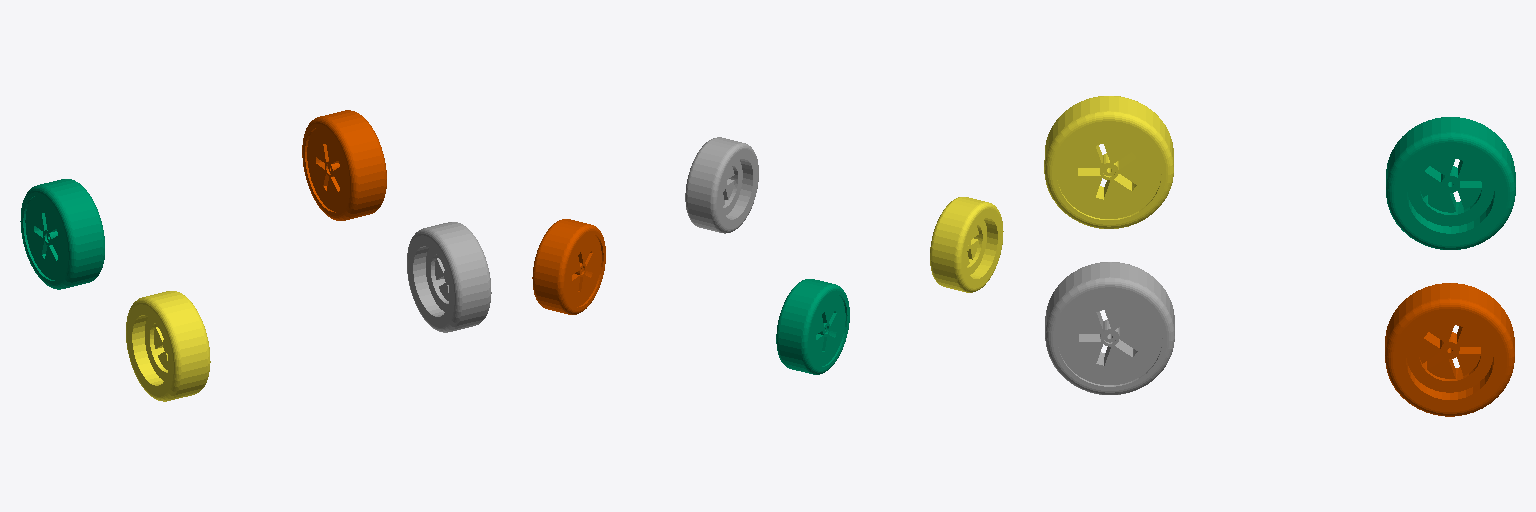
robot.urdf — speedi:
<robot name="speedi">

    <!--Car Links-->

    <link name="chassis">
        <inertial>
            <origin xyz="0 0 0"/>
            <mass value="5.0"/>
            <inertia ixx="0.10595165" ixy="-0.002487144" ixz="0.011981253" iyy="0.126271962" iyz="0.011832006" izz="0.033185337"/>
        </inertial>
        <visual>
            <origin rpy="0 0 0" xyz="0 0 0"/>
            <geometry>
                <mesh filename="package://rr_description/meshes/car.dae"/>
            </geometry>
        </visual>
        <collision>
            <geometry>
                <mesh filename="package://rr_description/meshes/car.dae"/>
            </geometry>
        </collision>
    </link>
    <gazebo reference="chassis">
        <material>Gazebo/Grey</material>
    </gazebo>


    <link name="back_axle">
        <inertial> <!--Null inertia-->
            <mass value="0.001"/>
            <inertia ixx="0.001" ixy="0" ixz="0" iyy="0.001" iyz="0" izz="0.001"/>
        </inertial>
    </link>

    <link name="wheel_back_left">
        <inertial>
            <origin rpy="0 0 0" xyz="0 0 0" />
            <mass value="0.1" />
            <inertia  ixx="0.000405599" ixy="0.0"  ixz="0.0"  iyy="0.000405599"  iyz="0.0"  izz="0.000518265" />
        </inertial>
        <visual>
            <origin rpy="0 0 0" xyz="0 0 0"/>
            <geometry>
                <mesh filename="package://rr_description/meshes/wheel.dae"/>
            </geometry>
        </visual>
        <collision>
            <geometry>
                <mesh filename="package://rr_description/meshes/wheel.dae"/>
            </geometry>
        </collision>
    </link>
    <gazebo reference="wheel_back_left">
        <mu1>0.7</mu1>
        <mu2>0.75</mu2>
        <material>Gazebo/Grey</material>
    </gazebo>


    <link name="wheel_back_right">
        <inertial>
            <origin rpy="0 0 0" xyz="0 0 0" />
            <mass value="0.1" />
            <inertia  ixx="0.000405599" ixy="0.0"  ixz="0.0"  iyy="0.000405599"  iyz="0.0"  izz="0.000518265" />
        </inertial>
        <visual>
            <origin rpy="0 0 3.14" xyz="0 0 0"/>
            <geometry>
                <mesh filename="package://rr_description/meshes/wheel.dae"/>
            </geometry>
        </visual>
        <collision>
            <geometry>
                <mesh filename="package://rr_description/meshes/wheel.dae"/>
            </geometry>
        </collision>
    </link>
    <gazebo reference="wheel_back_right">
        <mu1>0.7</mu1>
        <mu2>0.75</mu2>
        <material>Gazebo/Grey</material>
    </gazebo>


    <link name="steering_front_left">
        <inertial> <!--Null inertia-->
            <mass value="0.001"/>
            <inertia ixx="0.001" ixy="0" ixz="0" iyy="0.001" iyz="0" izz="0.001"/>
        </inertial>
    </link>

    <link name="wheel_front_left">
        <inertial>
            <origin xyz="0 0 0" />
            <mass value="0.1" />
            <inertia  ixx="0.000405599" ixy="0.0"  ixz="0.0"  iyy="0.000405599"  iyz="0.0"  izz="0.000518265" />
        </inertial>
        <visual>
            <origin rpy="0 0 0" xyz="0 0 0"/>
            <geometry>
                <mesh filename="package://rr_description/meshes/wheel.dae"/>
            </geometry>
        </visual>
        <collision>
            <geometry>
                <mesh filename="package://rr_description/meshes/wheel.dae"/>
            </geometry>
        </collision>
    </link>
    <gazebo reference="wheel_front_left">
        <mu1>0.7</mu1>
        <mu2>0.75</mu2>
        <material>Gazebo/Grey</material>
    </gazebo>

    <link name="steering_front_right">
        <inertial> <!--Null inertia-->
            <mass value="0.001"/>
            <inertia ixx="0.001" ixy="0" ixz="0" iyy="0.001" iyz="0" izz="0.001"/>
        </inertial>
    </link>

    <link name="wheel_front_right">
        <inertial>
            <origin xyz="0 0 0" />
            <mass value="0.1" />
            <inertia  ixx="0.000405599" ixy="0.0"  ixz="0.0"  iyy="0.000405599"  iyz="0.0"  izz="0.000518265" />
        </inertial>
        <visual>
            <origin rpy="0 0 3.14" xyz="0 0 0"/>
            <geometry>
                <mesh filename="package://rr_description/meshes/wheel.dae"/>
            </geometry>
        </visual>
        <collision>
            <geometry>
                <mesh filename="package://rr_description/meshes/wheel.dae"/>
            </geometry>
        </collision>
    </link>
    <gazebo reference="wheel_front_right">
        <mu1>0.7</mu1>
        <mu2>0.75</mu2>
        <material>Gazebo/Grey</material>
    </gazebo>



    <!--Sensor Links-->

    <link name="laser"/>
    <gazebo reference="laser">
        <sensor type="ray" name="lidar">
            <visualize>false</visualize>
            <update_rate>15</update_rate>
            <ray>
                <scan>
                    <horizontal>
                        <samples>270</samples>
                        <resolution>1</resolution>
                        <min_angle>-2.35619</min_angle>
                        <max_angle>2.35619</max_angle>
                    </horizontal>
                </scan>
                <range>
                    <min>0.05</min>
                    <max>8.00</max>
                    <resolution>0.02</resolution>
                </range>
            </ray>
            <plugin name="lidar_plugin" filename="libgazebo_ros_laser.so">
                <robotNamespace>/</robotNamespace>
                <topicName>/scan</topicName>
                <frameName>/laser</frameName>
            </plugin>
        </sensor>
    </gazebo>


    <link name="imu"/>
    <gazebo>
        <plugin filename="libhector_gazebo_ros_imu.so" name="imu_sensor">
            <robotNamespace>/</robotNamespace>
            <serviceName>/imu/calibrate</serviceName>
            <updateRate>200.0</updateRate>
            <bodyName>imu</bodyName>
            <frameId>imu</frameId>
            <topicName>imu</topicName>
            <rpyOffset>0 0 0</rpyOffset>
            <xyzOffset>0 0 0</xyzOffset>
            <gaussianNoise>0.00000001</gaussianNoise>
            <accelDrift>0.00000001 0.00000001 0.00000001</accelDrift>
            <accelDriftFrequency>0.00000001 0.00000001 0.00000001</accelDriftFrequency>
            <accelGaussianNoise>0.00000001 0.00000001 0.00000001</accelGaussianNoise>
            <rateDrift>0.0 0.0 0.0</rateDrift>
            <rateDriftFrequency>0.0 0.0 0.0</rateDriftFrequency>
            <rateGaussianNoise>0.0 0.0 0.0</rateGaussianNoise>
            <headingDrift>0.0 0.0 0.0</headingDrift>
            <headingDriftFrequency>0.0 0.0 0.0</headingDriftFrequency>
            <headingGaussianNoise>0.0 0.0 0.0</headingGaussianNoise>
        </plugin>
    </gazebo>


    <link name="camera_base">
        <inertial> <!--Null inertia-->
            <mass value="0.001"/>
            <inertia ixx="0.001" ixy="0" ixz="0" iyy="0.001" iyz="0" izz="0.001"/>
        </inertial>
    </link>


    <link name="camera">
        <inertial> <!--Null inertia-->
            <mass value="0.001"/>
            <inertia ixx="0.001" ixy="0" ixz="0" iyy="0.001" iyz="0" izz="0.001"/>
        </inertial>
    </link>
    <gazebo reference="camera">
        <sensor name="camera_sensor" type="camera">
            <camera>
                <horizontal_fov>2.0944<!-- 120 deg in rad --></horizontal_fov>
                <image>
                    <width>640</width>
                    <height>480</height>
                    <format>R8G8B8</format>
                </image>
                <clip>
                    <near>0.1</near>
                    <far>100</far>
                </clip>
            </camera>
            <always_on>true</always_on>
            <update_rate>30</update_rate>
            <visualize>false</visualize>
            <plugin name="camera_controller" filename="libgazebo_ros_camera.so">
                <robotNamespace>/</robotNamespace>
                <alwaysOn>true</alwaysOn>
                <updateRate>30.0</updateRate>
                <cameraName>camera</cameraName>
                <imageTopicName>image_raw</imageTopicName>
                <cameraInfoTopicName>camera_info</cameraInfoTopicName>
                <frameName>camera_optical</frameName>
                <hackBaseline>0.07</hackBaseline>
            </plugin>
        </sensor>
    </gazebo>

    <link name="camera_optical"/>


    <link name="base_footprint">
        <inertial> <!--Null inertia-->
            <mass value="0.001"/>
            <inertia ixx="0.001" ixy="0" ixz="0" iyy="0.001" iyz="0" izz="0.001"/>
        </inertial>
    </link>



    <!--Joints-->

    <joint name="base_footprint_to_chassis" type="fixed">
        <parent link="base_footprint"/>
        <child link="chassis"/>
        <origin xyz="0 0 0.036" rpy="0 0 0"/>
    </joint>

    <joint name="chassis_to_back_axle" type="fixed">
        <parent link="chassis"/>
        <child link="back_axle"/>
        <origin xyz="0 0 0" rpy="0 0 0"/>
    </joint>

    <joint name="axle_to_left_wheel" type="continuous">
        <parent link="back_axle"/>
        <child link="wheel_back_left"/>
        <origin xyz="0 0.14439 0" rpy="0 0 0"/>
        <axis xyz="0 1 0"/>
    </joint>
    <joint name="axle_to_right_wheel" type="continuous">
        <parent link="back_axle"/>
        <child link="wheel_back_right"/>
        <origin xyz="0 -0.14439 0" rpy="0 0 0"/>
        <axis xyz="0 1 0"/>
    </joint>

    <joint name="chassis_to_left_steering" type="revolute">
        <parent link="chassis"/>
        <child link="steering_front_left"/>
        <origin xyz="0.33246 0.14366 0" rpy="0 0 0"/>
        <axis xyz="0 0 1"/>
        <limit lower="-0.366519" upper="0.366519" effort="100000.0" velocity="1000000.0"/>
    </joint>
    <joint name="left_steering_to_wheel" type="continuous">
        <parent link="steering_front_left"/>
        <child link="wheel_front_left"/>
        <origin xyz="0 0 0" rpy="0 0 0"/>
        <axis xyz="0 1 0"/>
    </joint>

    <joint name="chassis_to_right_steering" type="revolute">
        <parent link="chassis"/>
        <child link="steering_front_right"/>
        <origin xyz="0.33246 -0.14366 0" rpy="0 0 0"/>
        <axis xyz="0 0 1"/>
        <limit lower="-0.366519" upper="0.366519" effort="1000.0" velocity="1000.0"/>
    </joint>
    <joint name="right_steering_to_wheel" type="continuous">
        <parent link="steering_front_right"/>
        <child link="wheel_front_right"/>
        <origin xyz="0 0 0" rpy="0 0 0"/>
        <axis xyz="0 1 0"/>
    </joint>

    <joint name="cam_chassis_height" type="prismatic">
        <parent link="chassis"/>
        <child link="camera_base"/>
        <origin xyz="0 0 0" rpy="0 0 0"/>
        <axis xyz="0 0 1"/>
        <limit lower="0.274" upper="0.374" effort="1000.0" velocity="1000.0"/>
    </joint>

    <joint name="camera_tilt" type="revolute">
        <parent link="camera_base"/>
        <child link="camera"/>
        <origin xyz="0 0 0" rpy="0 0 0"/>
        <axis xyz="0 1 0"/>
        <limit lower="0" upper="3.14" effort="1000.0" velocity="1000.0"/>
    </joint>

    <joint name="camera_optical_joint" type="fixed">
        <parent link="camera"/>
        <child link="camera_optical"/>
        <origin xyz="0 0 0" rpy="-1.5708 0 -1.5708"/>
    </joint>

    <joint name="lidar_joint" type="fixed">
        <parent link="chassis"/>
        <child link="laser"/>
        <origin xyz="0.255 0 0.110" rpy="0 0 0"/>
    </joint>

    <joint name="imu" type="fixed">
        <parent link="chassis"/>
        <child link="imu"/>
        <origin xyz="0 0 0.1778" rpy="0 0 0"/>
    </joint>

    <!--Actuators-->

    <gazebo>
        <plugin name="gazebo_ros_control" filename="libgazebo_ros_control.so">
            <robotNamespace>/</robotNamespace>
        </plugin>
    </gazebo>

    <transmission name="trans_back_left">
        <type>transmission_interface/SimpleTransmission</type>
        <joint name="axle_to_left_wheel">
            <hardwareInterface>EffortJointInterface</hardwareInterface>
        </joint>
        <actuator name="motor_left">
            <hardwareInterface>EffortJointInterface</hardwareInterface>
            <mechanicalReduction>1</mechanicalReduction>
        </actuator>
    </transmission>

    <transmission name="trans_back_right">
        <type>transmission_interface/SimpleTransmission</type>
        <joint name="axle_to_right_wheel">
            <hardwareInterface>EffortJointInterface</hardwareInterface>
        </joint>
        <actuator name="motor_right">
            <hardwareInterface>EffortJointInterface</hardwareInterface>
            <mechanicalReduction>1</mechanicalReduction>
        </actuator>
    </transmission>

    <transmission name="left_steering_trans">
        <type>transmission_interface/SimpleTransmission</type>
        <joint name="chassis_to_left_steering">
            <hardwareInterface>EffortJointInterface</hardwareInterface>
        </joint>
        <actuator name="left_steer_motor">
            <hardwareInterface>EffortJointInterface</hardwareInterface>
            <mechanicalReduction>1</mechanicalReduction>
        </actuator>
    </transmission>

    <transmission name="right_steering_trans">
        <type>transmission_interface/SimpleTransmission</type>
        <joint name="chassis_to_right_steering">
            <hardwareInterface>EffortJointInterface</hardwareInterface>
        </joint>
        <actuator name="right_steer_motor">
            <hardwareInterface>EffortJointInterface</hardwareInterface>
            <mechanicalReduction>1</mechanicalReduction>
        </actuator>
    </transmission>

    <transmission name="cam_height_trans">
        <type>transmission_interface/SimpleTransmission</type>
        <joint name="cam_chassis_height">
            <hardwareInterface>EffortJointInterface</hardwareInterface>
        </joint>
        <actuator name="cam_height_motor">
            <hardwareInterface>EffortJointInterface</hardwareInterface>
            <mechanicalReduction>1</mechanicalReduction>
        </actuator>
    </transmission>

    <transmission name="cam_tilt_trans">
        <type>transmission_interface/SimpleTransmission</type>
        <joint name="camera_tilt">
            <hardwareInterface>EffortJointInterface</hardwareInterface>
        </joint>
        <actuator name="cam_tilt_motor">
            <hardwareInterface>EffortJointInterface</hardwareInterface>
            <mechanicalReduction>1</mechanicalReduction>
        </actuator>
    </transmission>

</robot>

--- Facts derived from the render (not from the file) ---
Views: 3 orthographic renders of the robot side by side, from view 1: azimuth 30°, elevation 25°; view 2: azimuth 150°, elevation 25°; view 3: azimuth 270°, elevation 25°.
Model speedi with 14 links and 13 joints (3 revolute, 4 continuous, 1 prismatic, 5 fixed), rooted at base_footprint, posed all joints at 0 but 1 set to mid-range because 0 is outside their limits (cam_chassis_height = 0.324).
Links seen in each view (by area): view 1: wheel_front_left, wheel_back_left, wheel_front_right, wheel_back_right; view 2: wheel_front_right, wheel_back_left, wheel_back_right, wheel_front_left; view 3: wheel_front_left, wheel_back_left, wheel_front_right, wheel_back_right.
Boxes of the visible links, x1,y1,x2,y2 form: wheel_front_left: (302,110,386,220); wheel_back_left: (20,179,104,289); wheel_front_right: (407,222,491,332); wheel_back_right: (126,291,210,401); wheel_front_right: (685,137,758,233); wheel_back_left: (776,279,849,374); wheel_back_right: (930,197,1003,292); wheel_front_left: (532,219,605,314); wheel_front_left: (1385,283,1514,416); wheel_back_left: (1386,117,1515,249); wheel_front_right: (1045,262,1174,394); wheel_back_right: (1044,96,1173,228).
Bounding box of the posed robot: 0.4173 × 0.3982 × 0.1097 m (x, y, z).
Meshes: 2 distinct files referenced, 4 mesh visuals loaded (1 Collada DAE); not drawn: 1 (reference not matched to a file when rendering).
